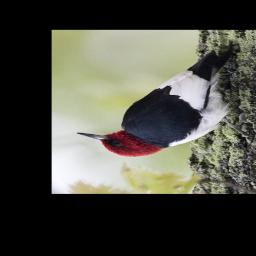Woodpecker: (68, 42, 248, 159)
